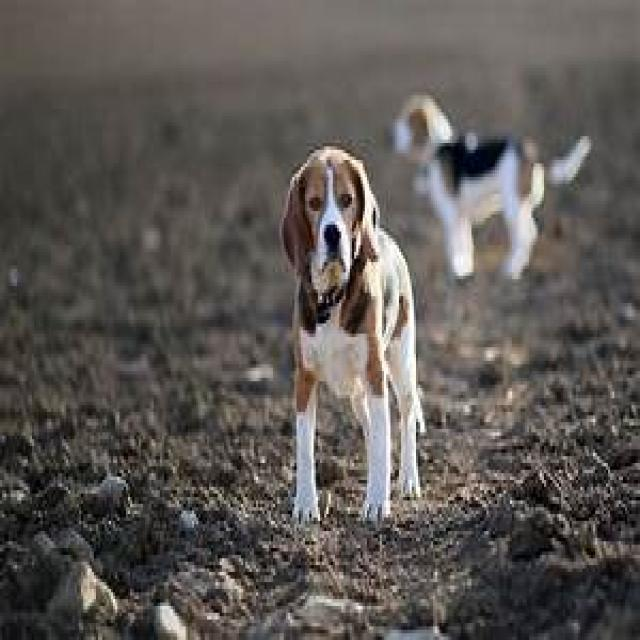dog: (279, 146, 427, 524), (397, 99, 546, 279)
